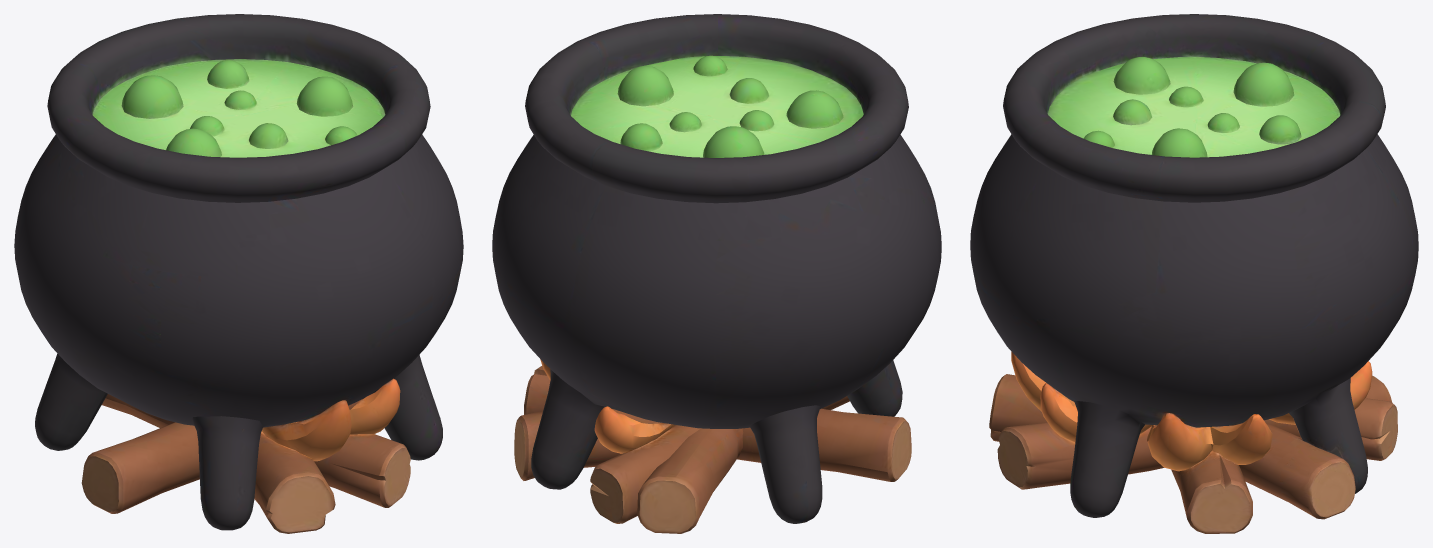
The model's file is cauldron.glb.
3 views of the same model, side by side, from view 1: azimuth 30°, elevation 25°; view 2: azimuth 150°, elevation 25°; view 3: azimuth 270°, elevation 25° (orthographic).
Visible parts, largest first — view 1: cauldron; view 2: cauldron; view 3: cauldron.
Part boxes in pixels (x1,y1,x2,y2): cauldron: [14, 14, 463, 533]; cauldron: [492, 14, 941, 533]; cauldron: [970, 14, 1418, 533].
Size of the model in its own units: 2.2 by 2 by 2.2.
Materials: 1 (1 with a texture image).
